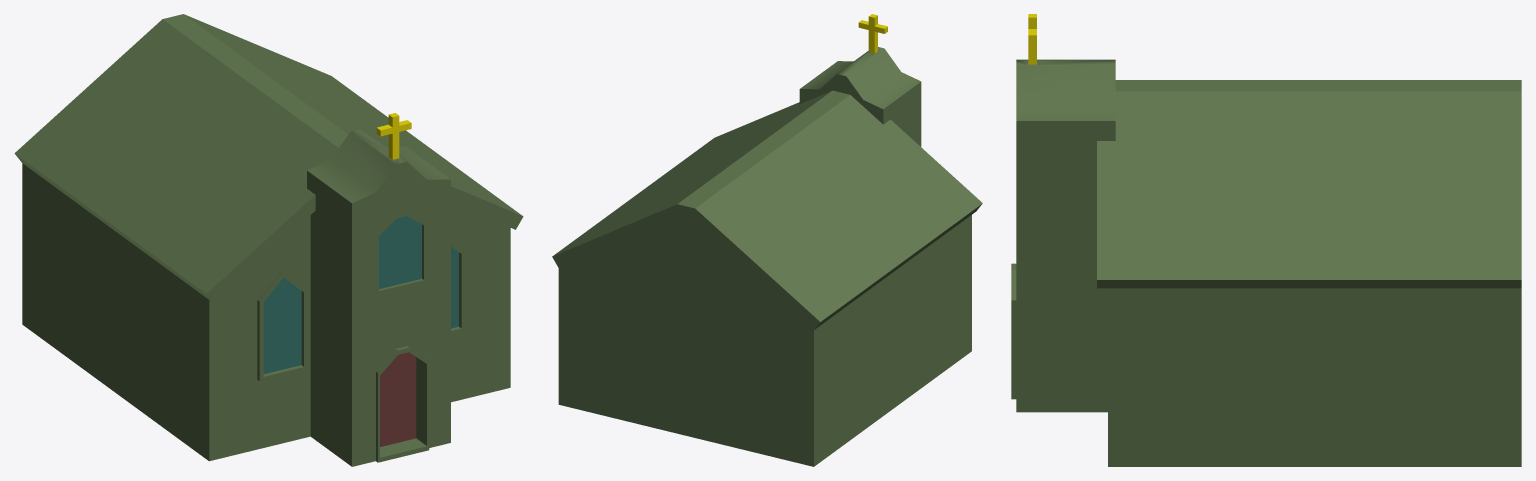
Rendered from Church.fbx.
The picture shows the model from 3 angles, left to right: view 1: azimuth 30°, elevation 25°; view 2: azimuth 150°, elevation 25°; view 3: azimuth 270°, elevation 25°; orthographic projection. The views are drawn at different scales.
Visible parts, largest first — view 1: pCube6; view 2: pCube6; view 3: pCube6.
Part boxes in pixels (bbox=[...]): pCube6: bbox=[14, 14, 523, 466]; pCube6: bbox=[552, 14, 982, 466]; pCube6: bbox=[1011, 14, 1521, 466].
Size of the model in its own units: 14.44 by 14.54 by 18.18.
